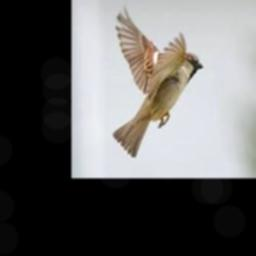Sparrow: (113, 5, 204, 157)
